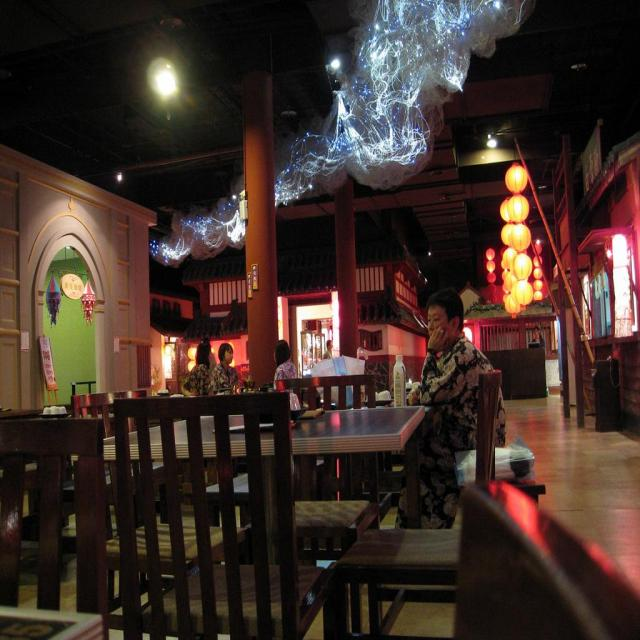table: (70, 398, 426, 640)
